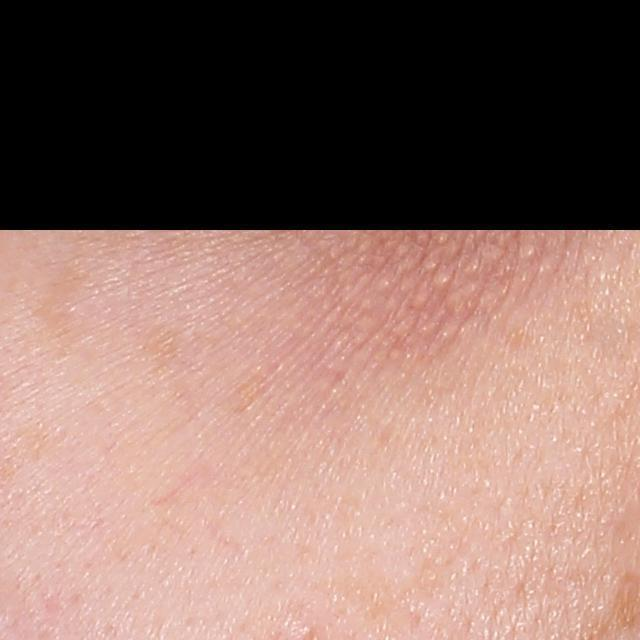melasma: (30, 261, 100, 354), (137, 317, 194, 380)
